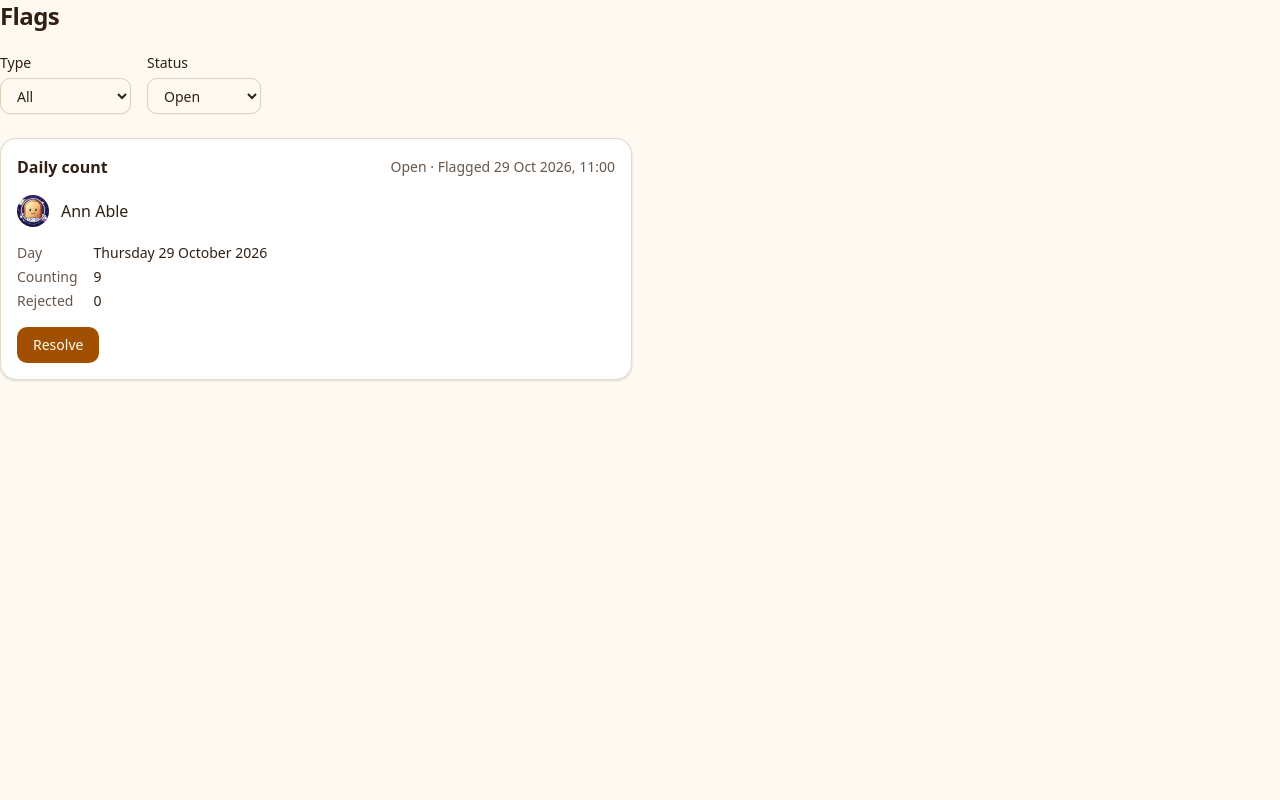
it: AdminFlagsPage › rejects the day's toasts and bans the subject
Click the button with aria-label "Resolve the flag on Ann Able" at (58, 345), box [17,327,99,363]
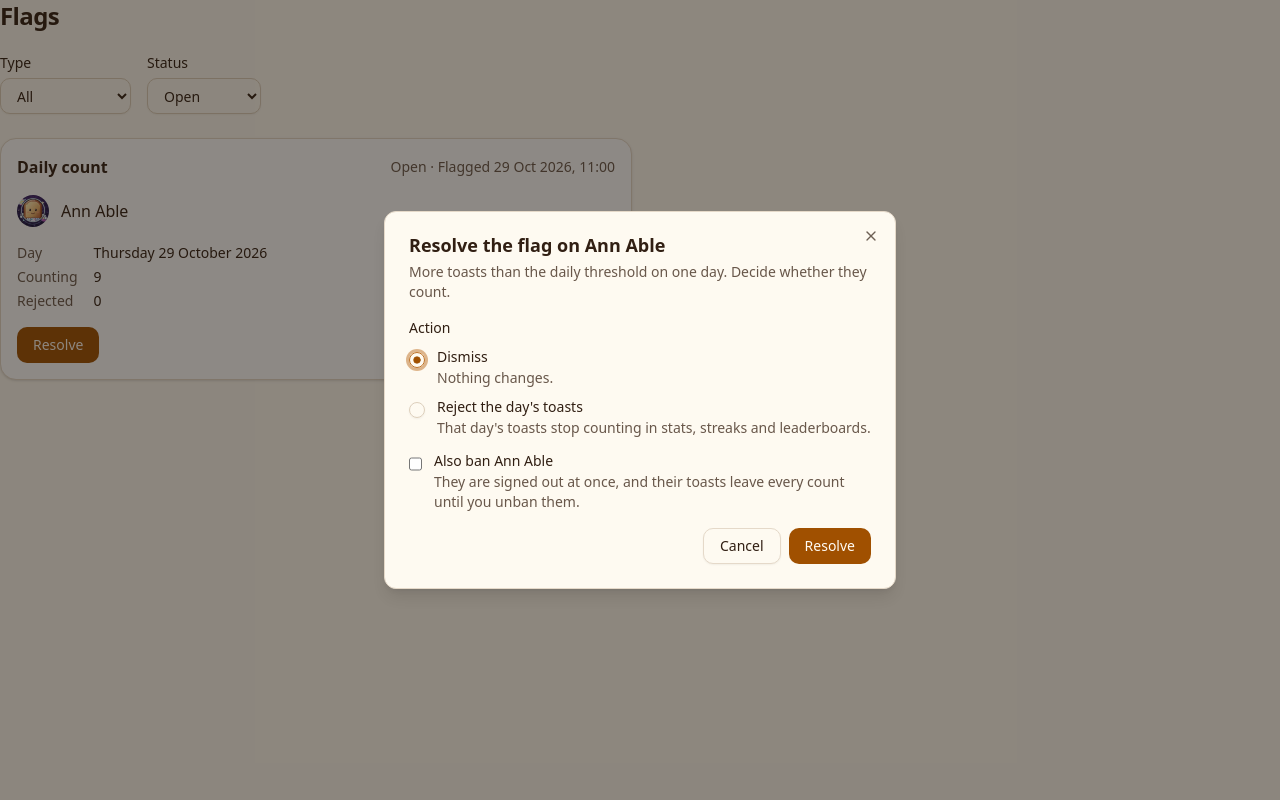
Click the radio button named "Reject the day's toasts" next to "Reject the day's toasts" at (417, 410), box [409,402,425,418]
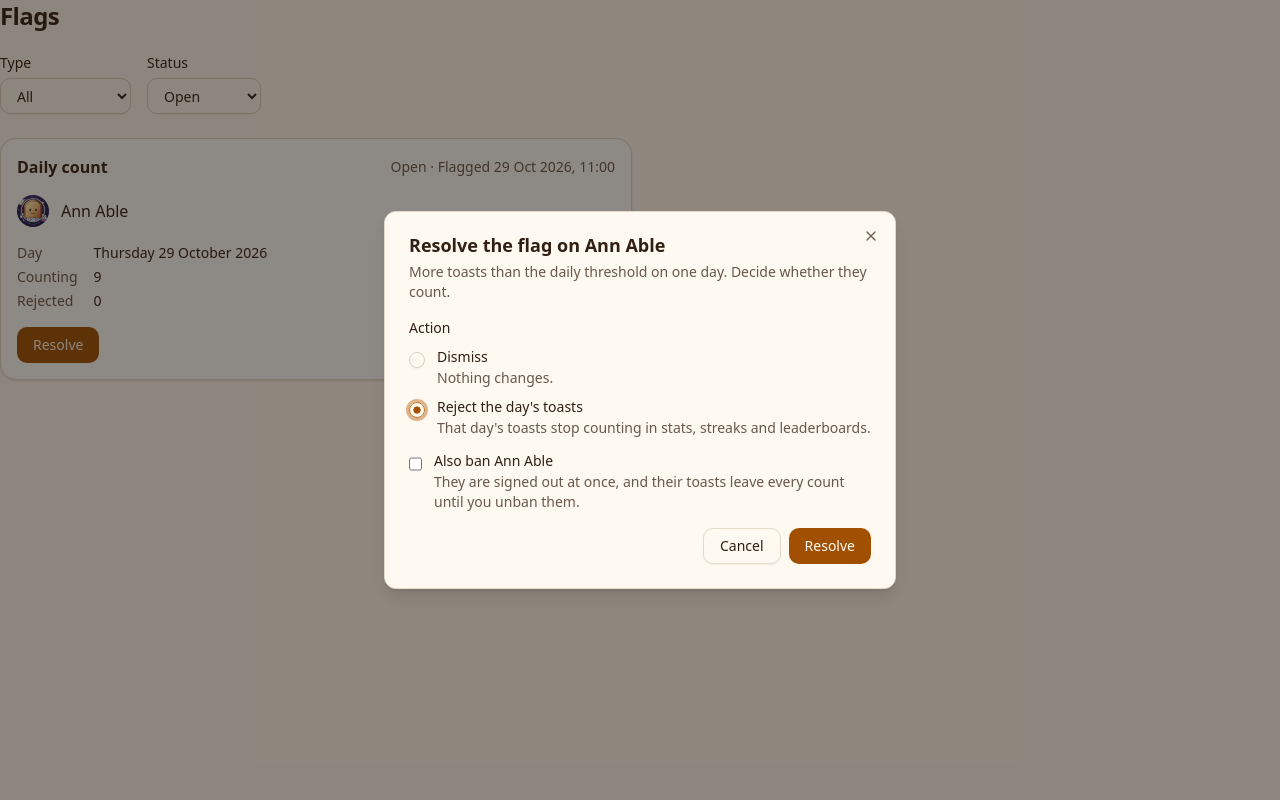
Click the checkbox labelled "Also ban Ann Able" at (416, 464), box [409,456,422,472]
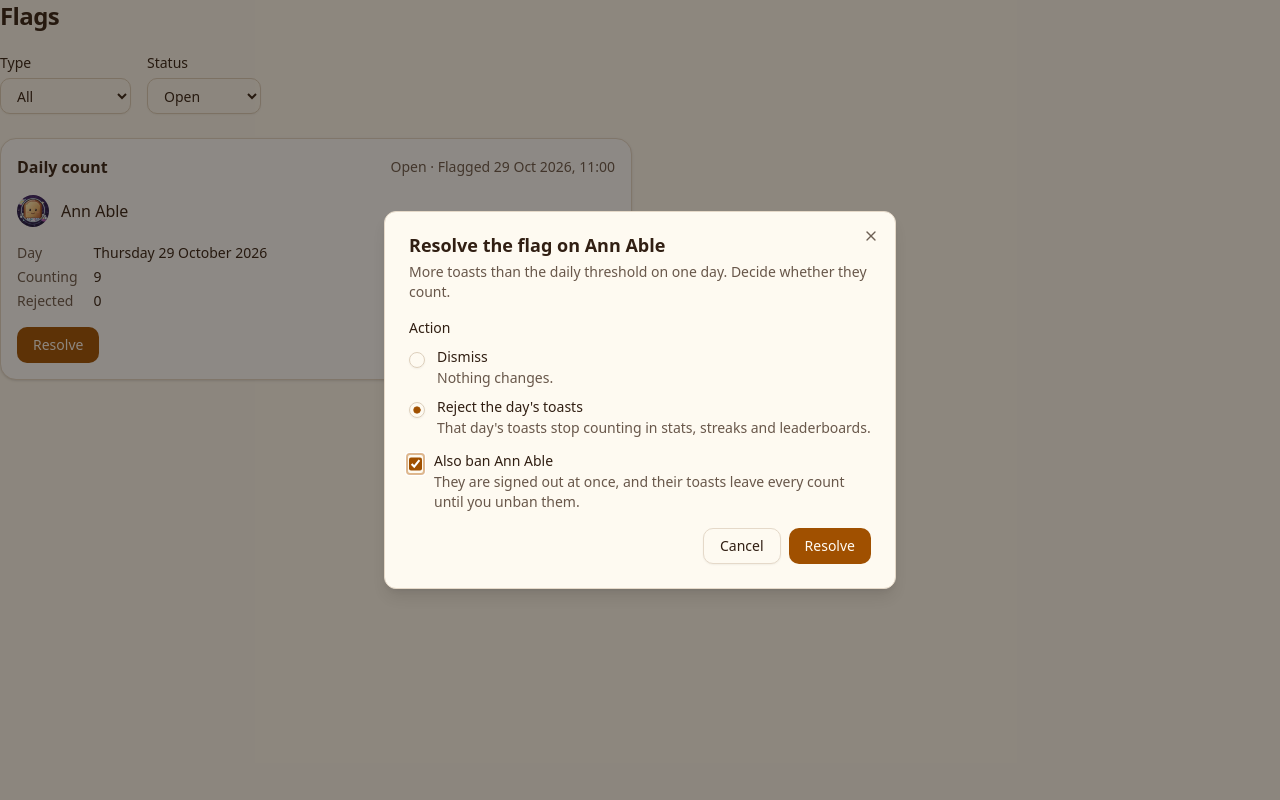
Click the button "Resolve" at (830, 546), box [789,528,871,564]
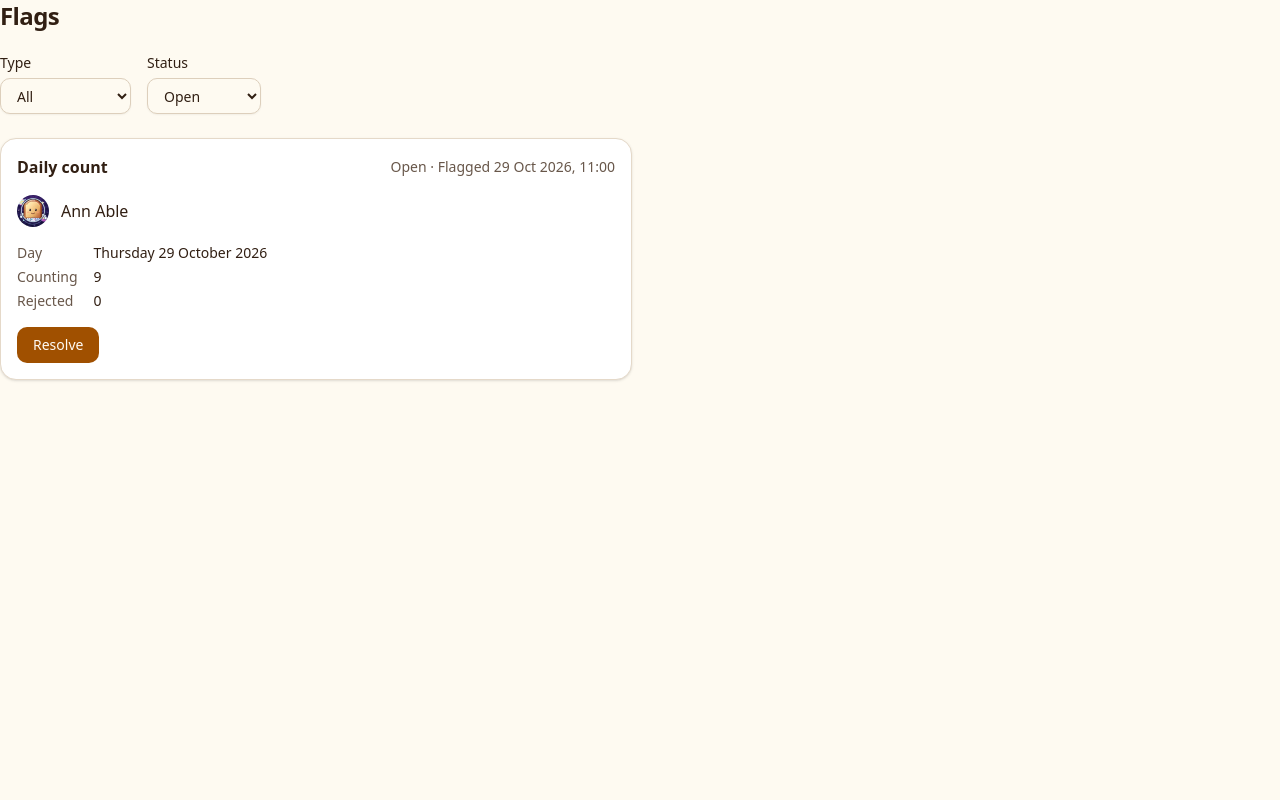
Result: the dialog is gone
